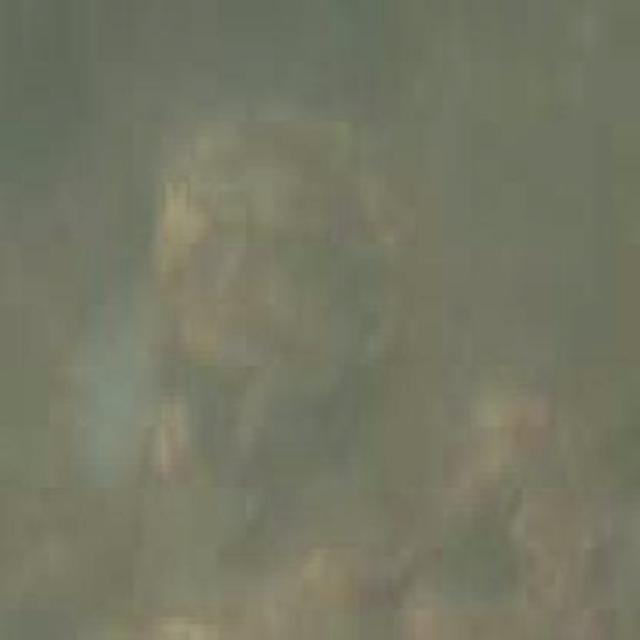Oyster-Closed: (158, 109, 412, 391)
